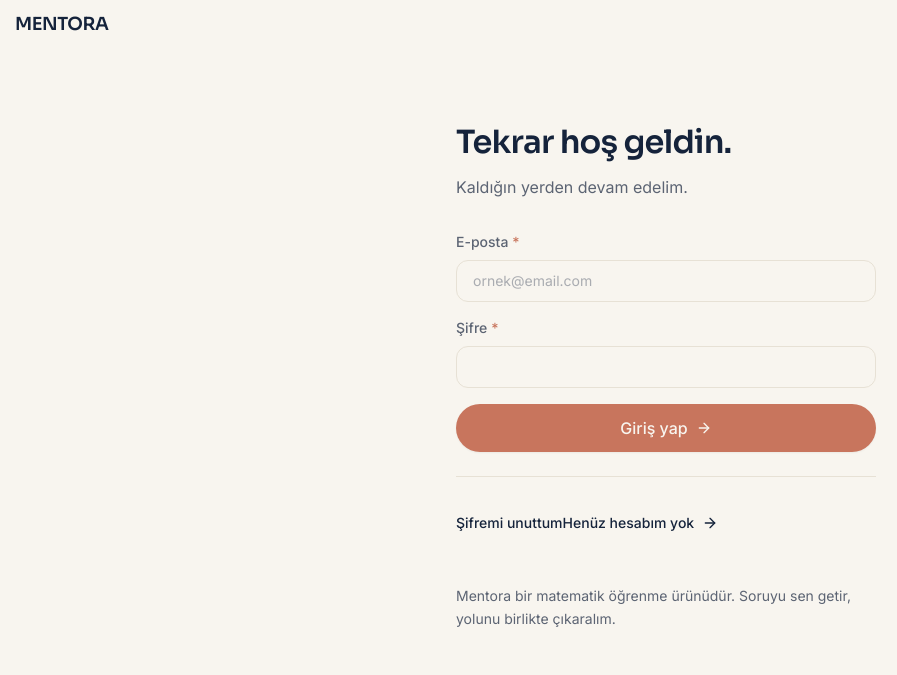
AuthScreen › validates missing sign-in fields before calling the backend
Click the button "Giriş yap".
click(666, 428)  # box top-left (456, 404), bottom-right (876, 452)
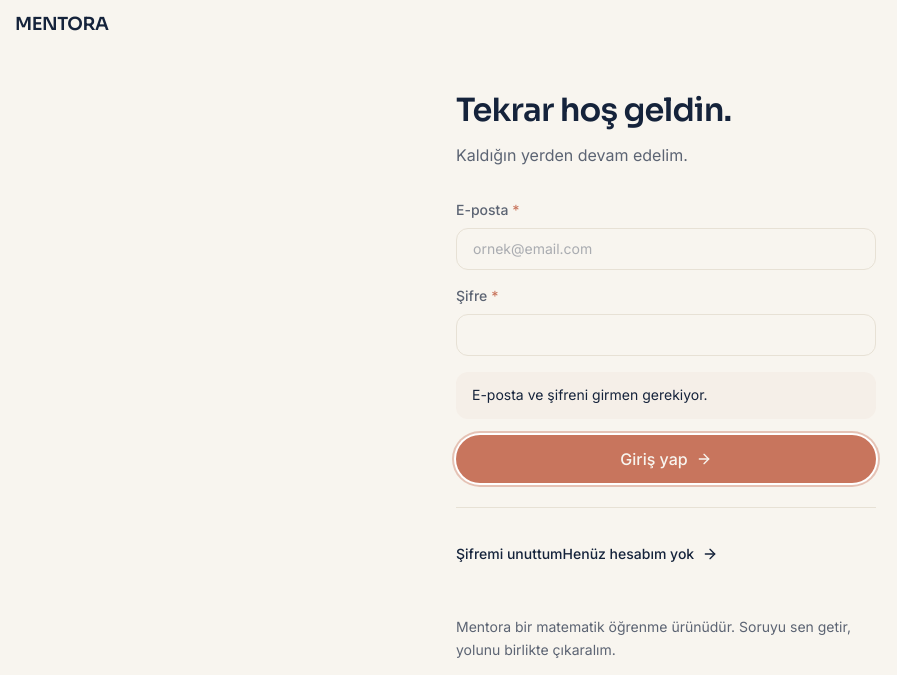
Check: the message shows "E-posta ve şifreni", box top-left (472, 386), bottom-right (708, 403)
